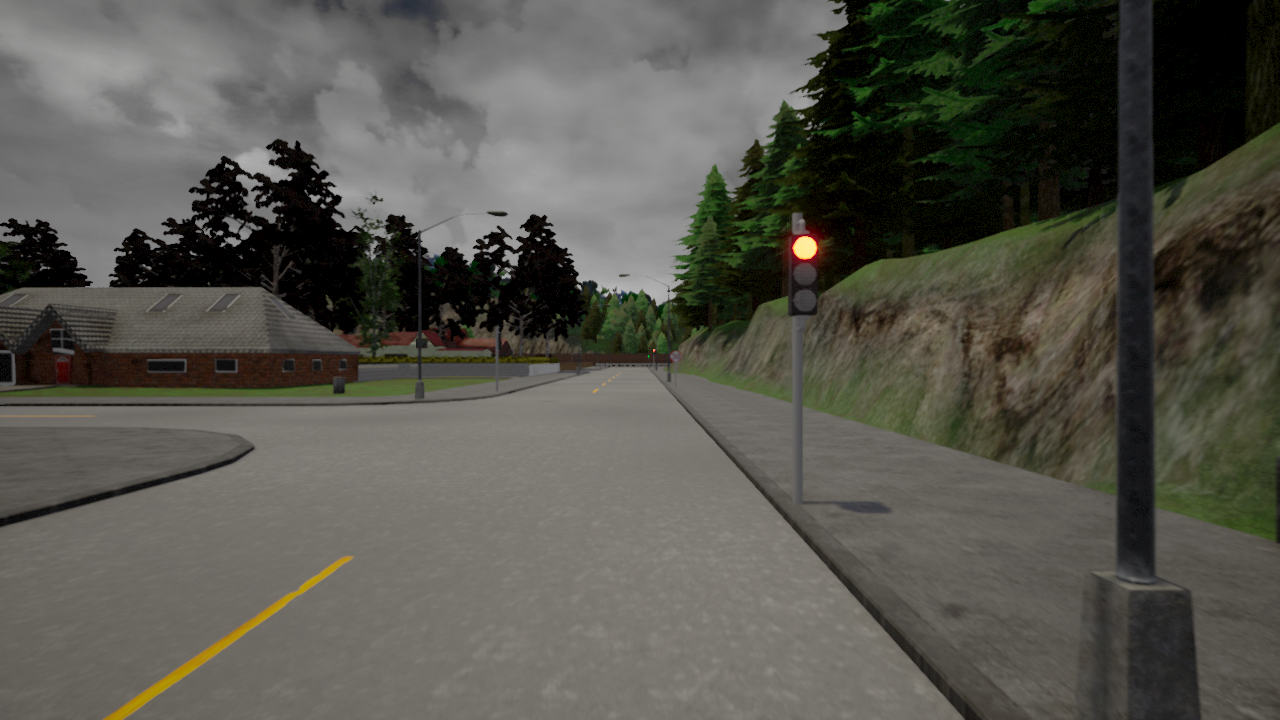red: (788, 233, 825, 316)
